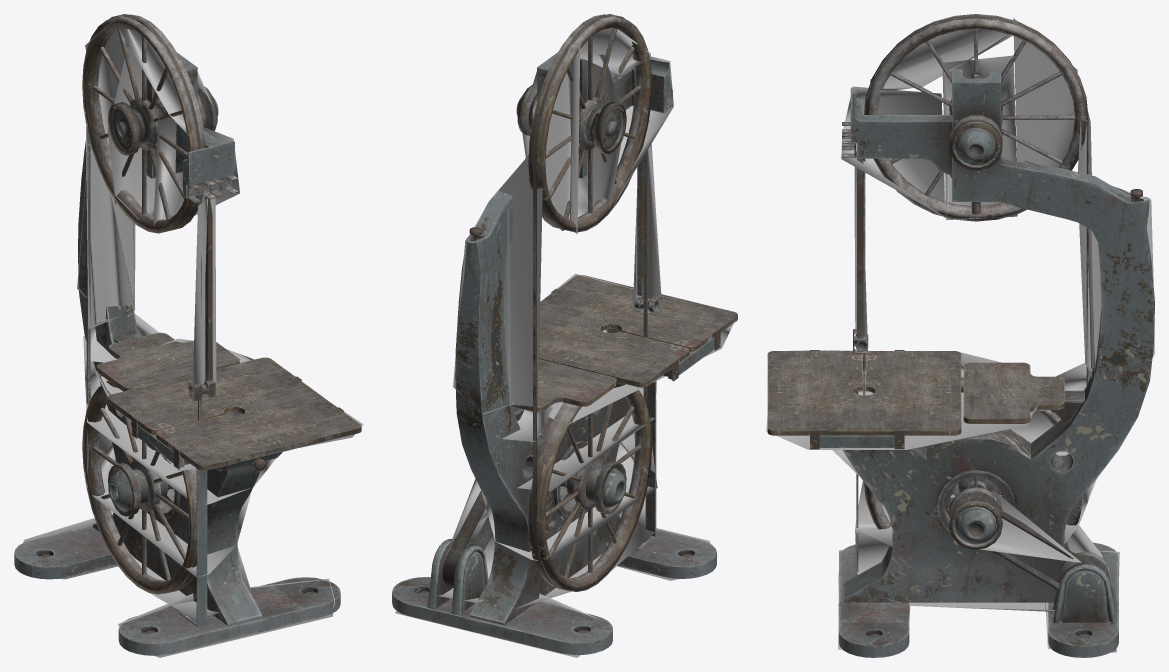
Rendered from SM_Band_Saw.gltf.
3 renders of one model, left to right at view 1: azimuth 30°, elevation 25°; view 2: azimuth 150°, elevation 25°; view 3: azimuth 270°, elevation 25°, orthographic.
Parts seen in each view (by area): view 1: SM_Band_Saw_LOD0, SM_Band_Saw_ConvexHulls; view 2: SM_Band_Saw_LOD0, SM_Band_Saw_ConvexHulls; view 3: SM_Band_Saw_LOD0, SM_Band_Saw_ConvexHulls.
Boxes of the visible parts, <box> form: SM_Band_Saw_LOD0: <box>14,14,361,655</box>; SM_Band_Saw_ConvexHulls: <box>23,16,363,657</box>; SM_Band_Saw_LOD0: <box>392,14,737,654</box>; SM_Band_Saw_ConvexHulls: <box>395,28,734,657</box>; SM_Band_Saw_LOD0: <box>767,14,1154,657</box>; SM_Band_Saw_ConvexHulls: <box>766,18,1154,652</box>.
Size of what is drawn, in the model's own units: 0.9937 by 2.6 by 1.57.
